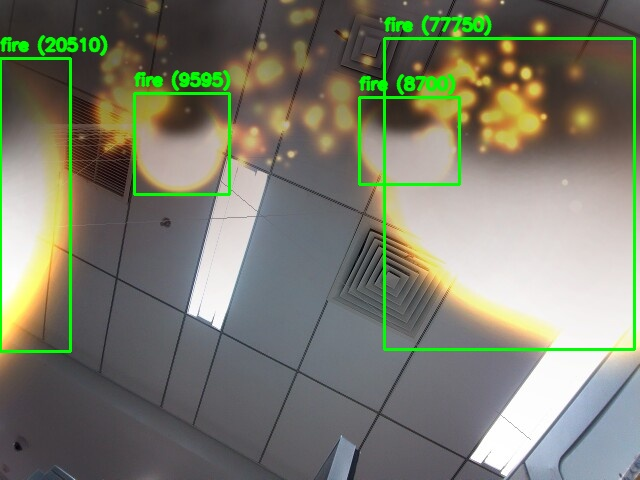fire: (384, 38, 634, 349), (0, 58, 70, 351), (134, 93, 229, 194), (359, 97, 459, 184)
